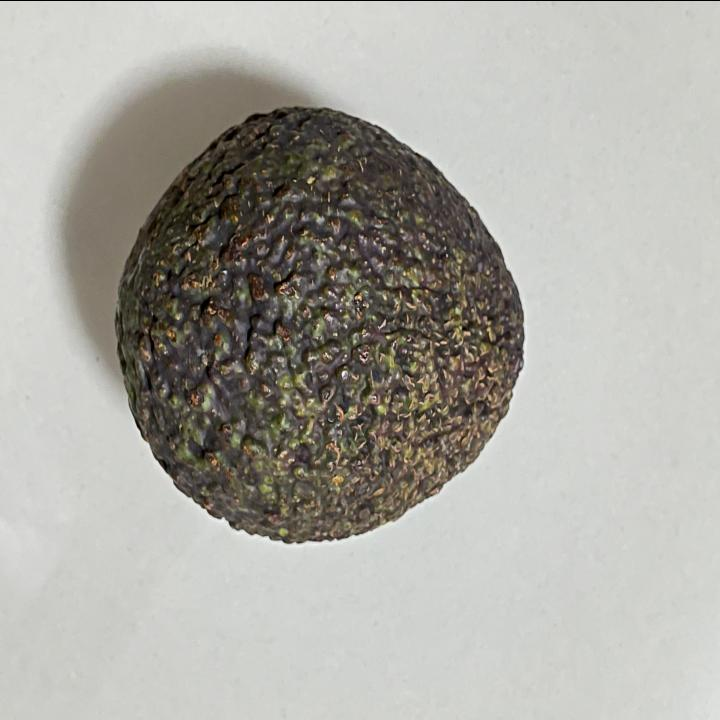Level1: (104, 90, 536, 568)
